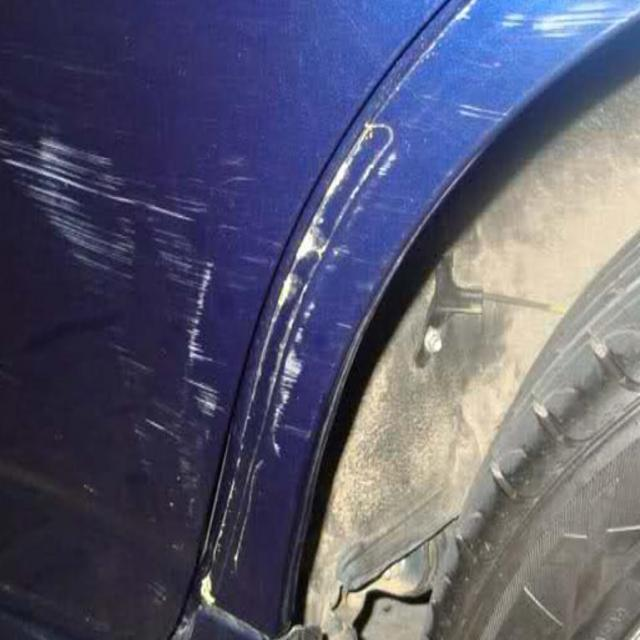scratch: (0, 90, 449, 596)
